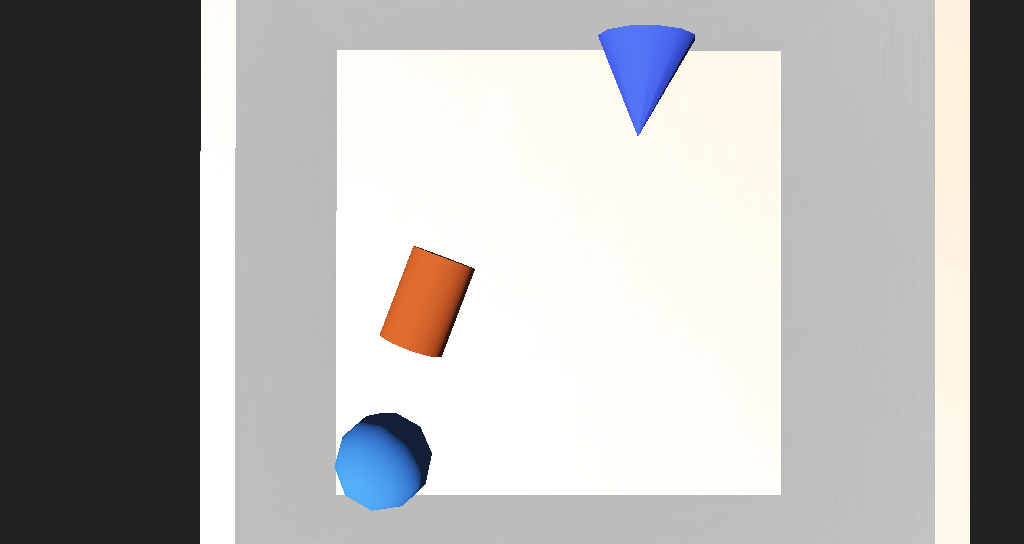cone: (381, 253, 455, 310)
cylinder: (525, 150, 593, 212)
sphere: (360, 336, 421, 379)
